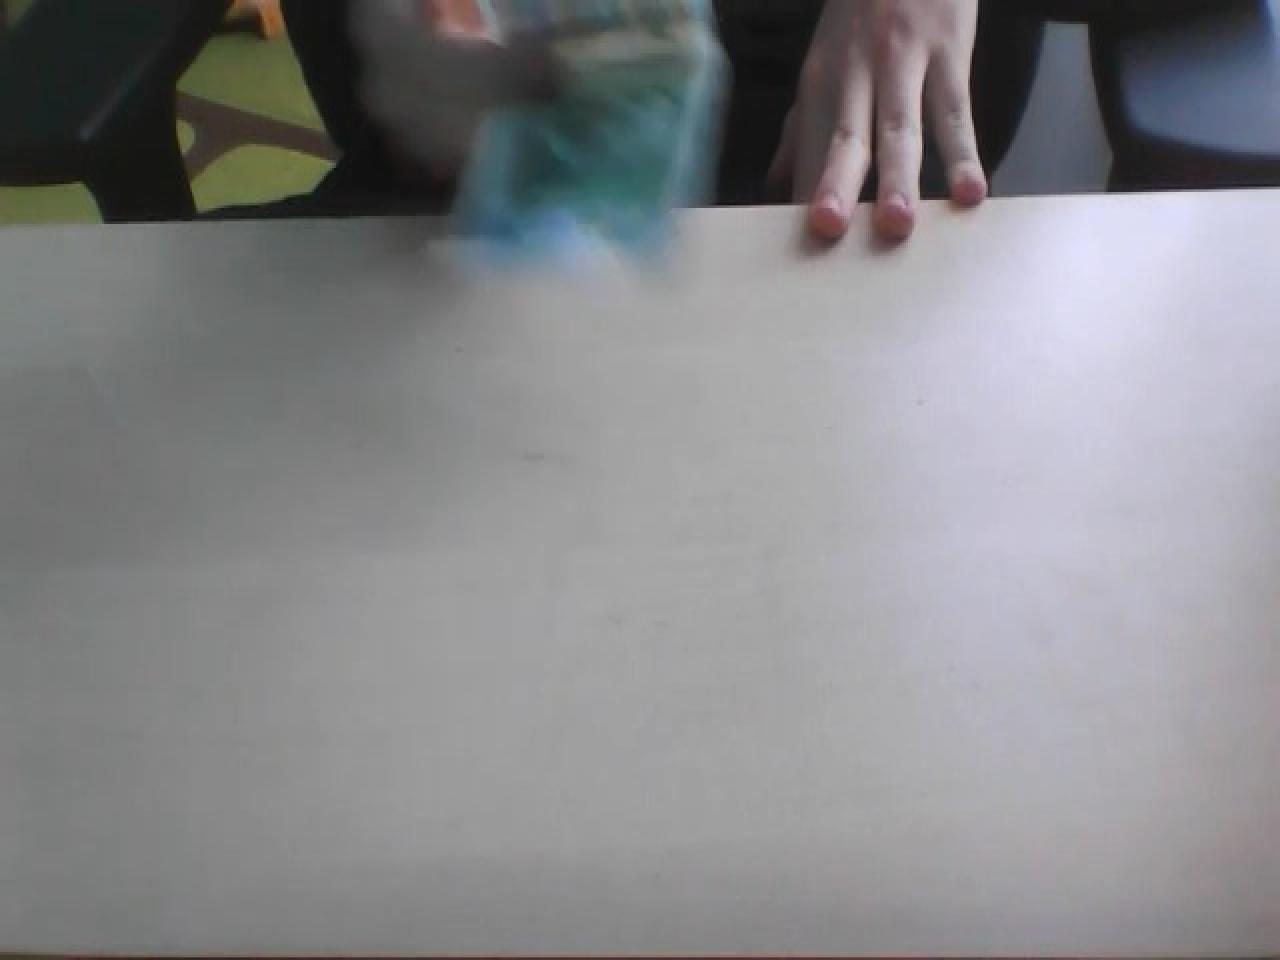100leva: (4, 178, 1278, 952)
